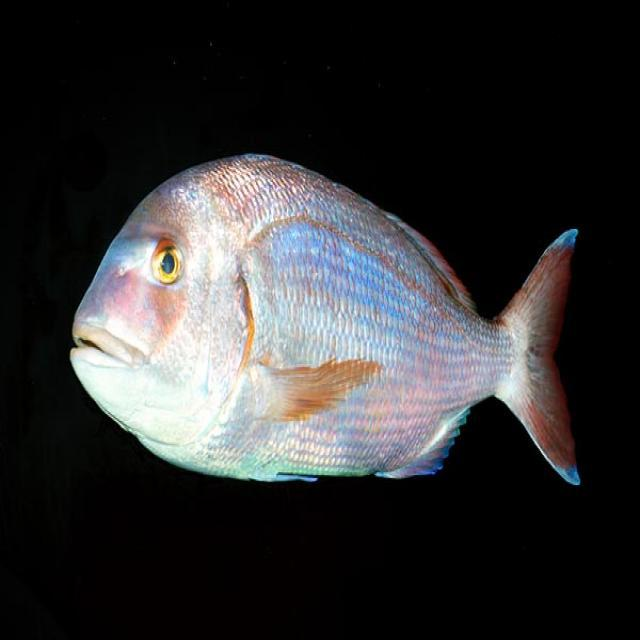Healthy Fish: (46, 146, 612, 500)
